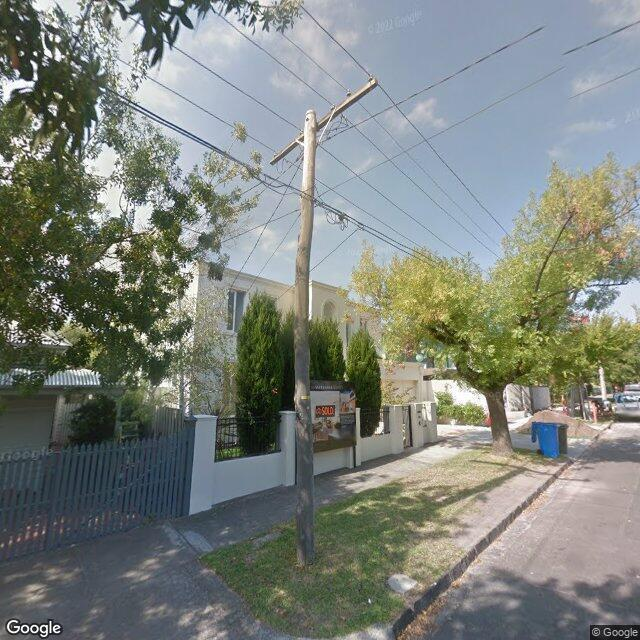crossarm: (269, 76, 379, 166)
timber-pole: (295, 108, 318, 568)
